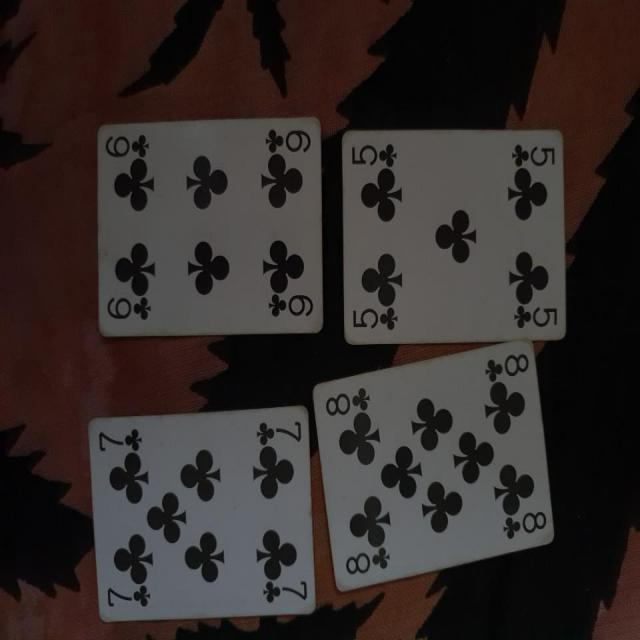5 of clubs: (340, 127, 567, 348)
6 of clubs: (94, 116, 324, 342)
7 of clubs: (86, 404, 317, 624)
8 of clubs: (310, 340, 558, 592)
